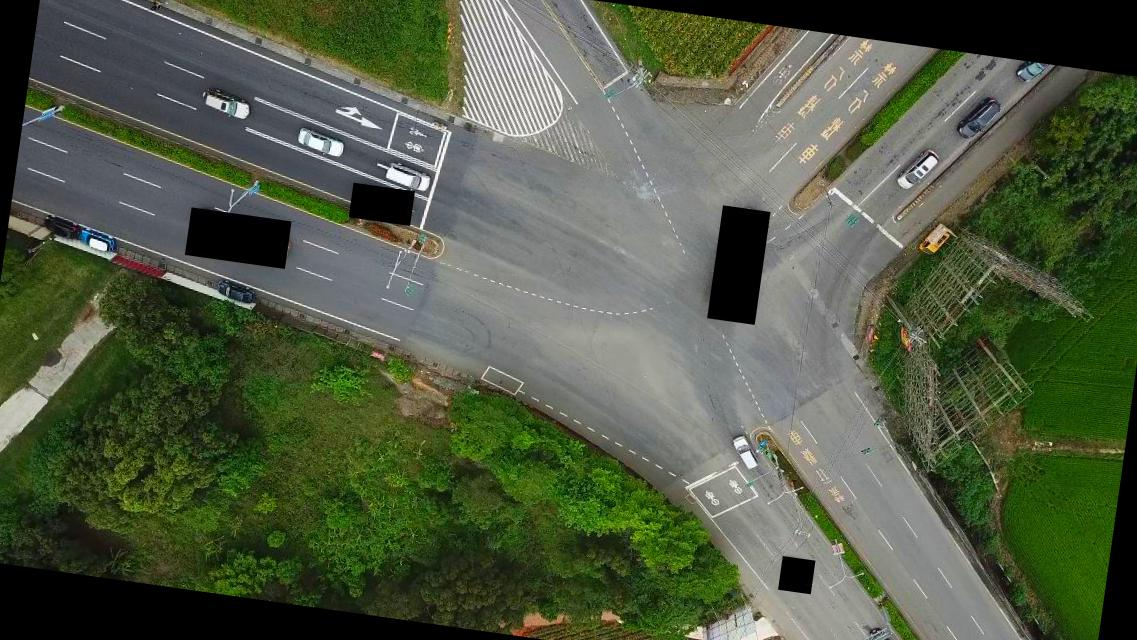vehicle: (954, 94, 1000, 144), (896, 146, 940, 194), (200, 88, 251, 121), (294, 126, 345, 158), (384, 160, 432, 192), (728, 433, 764, 472), (40, 214, 82, 241), (213, 280, 256, 305), (1013, 59, 1050, 86), (918, 226, 948, 258), (78, 228, 114, 253), (867, 629, 894, 639)
